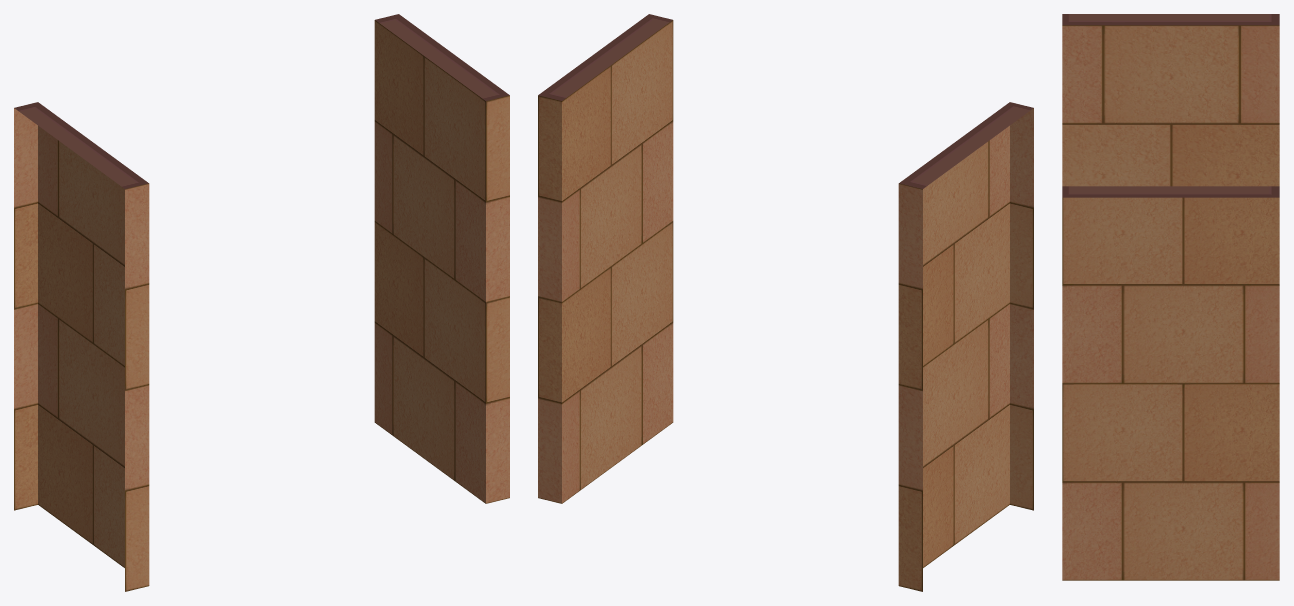
The model's file is Wall_Doorway.fbx.
The picture shows the model from 3 angles, left to right: view 1: azimuth 30°, elevation 25°; view 2: azimuth 150°, elevation 25°; view 3: azimuth 270°, elevation 25°; orthographic projection. The views are drawn at different scales.
Parts seen in each view (by area): view 1: Wall_Doorway; view 2: Wall_Doorway; view 3: Wall_Doorway.
Part boxes in pixels (box(x1,y1,x2,y2)): Wall_Doorway: box(14, 14, 509, 591); Wall_Doorway: box(538, 14, 1033, 591); Wall_Doorway: box(1062, 14, 1279, 580).
Size of the model in its own units: 2 by 2 by 1.
